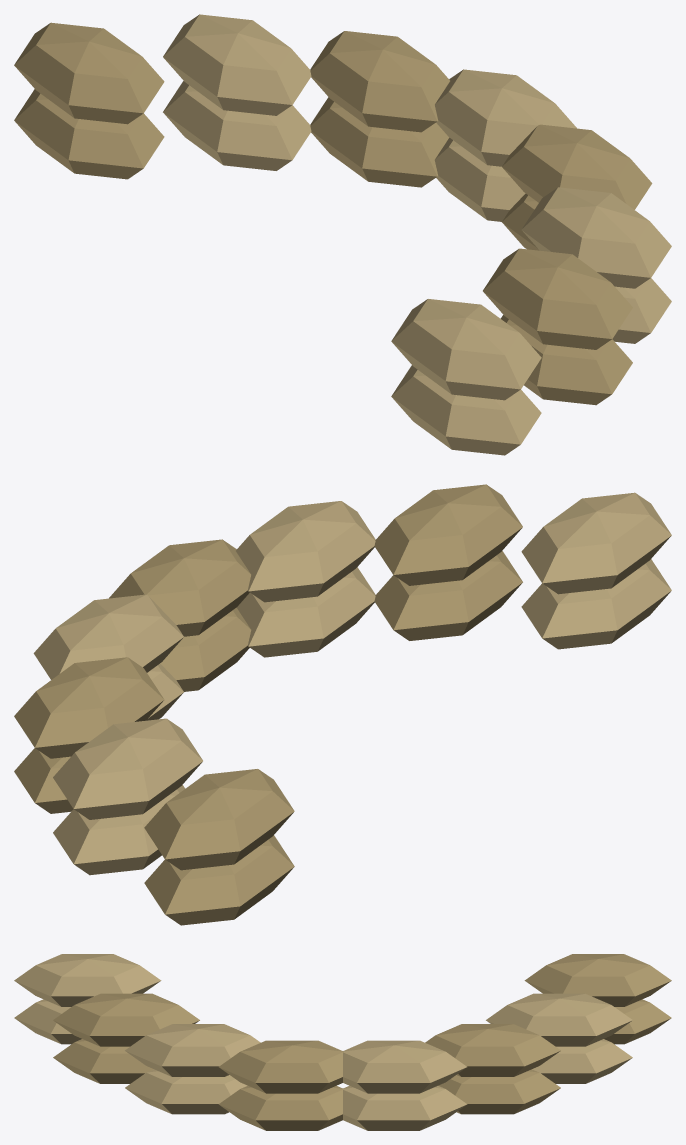
The model's file is sandbag_curve.glb.
3 renders of one model, top to bottom at view 1: azimuth 30°, elevation 25°; view 2: azimuth 150°, elevation 25°; view 3: azimuth 270°, elevation 25°, orthographic. The views are drawn at different scales.
Parts seen in each view (by area): view 1: sandbag_curve; view 2: sandbag_curve; view 3: sandbag_curve.
Part boxes in pixels (x1,y1,x2,y2): sandbag_curve: (14, 14, 671, 455); sandbag_curve: (14, 484, 671, 925); sandbag_curve: (14, 954, 671, 1130).
Size of the model in its own units: 1.29 by 0.41 by 3.03.
